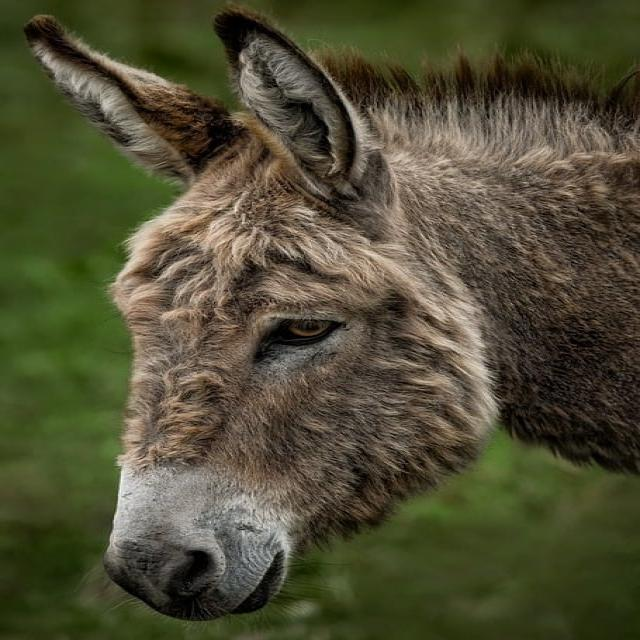Herbivorous: (23, 7, 640, 624)
